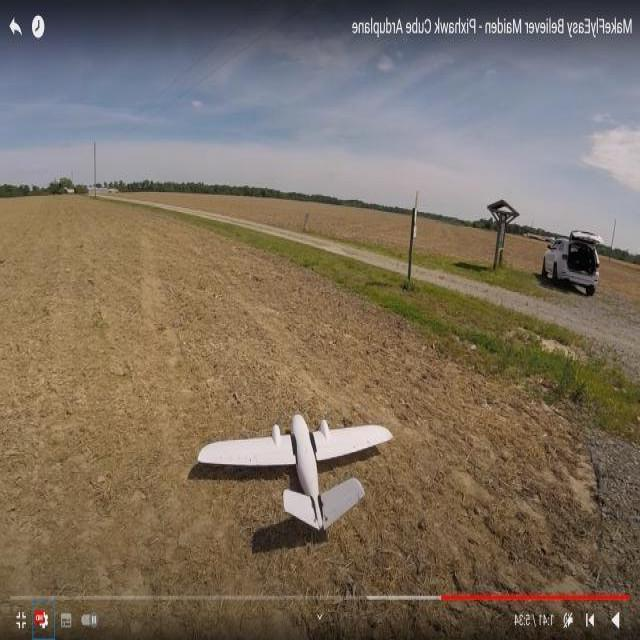UAV: (218, 408, 394, 532)
